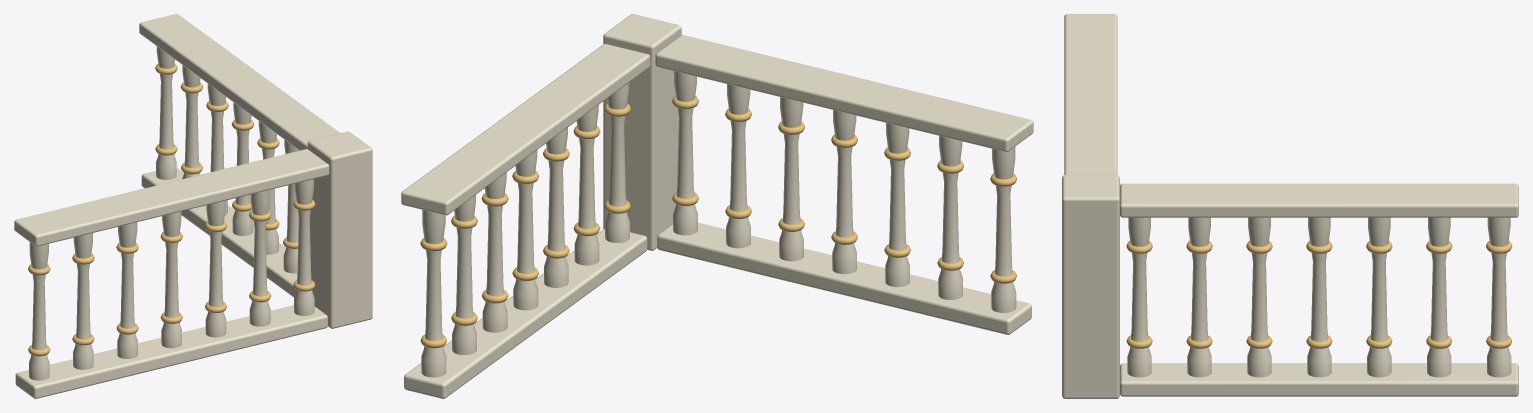
Rendered from royal-court-and-throne-palace-balustrade-corner-355292d1__29424.glb.
3 views of the same model, side by side, from view 1: azimuth 30°, elevation 25°; view 2: azimuth 150°, elevation 25°; view 3: azimuth 270°, elevation 25° (orthographic). The views are drawn at different scales.
Visible parts, largest first — view 1: balustrade-corner; view 2: balustrade-corner; view 3: balustrade-corner.
Boxes of the visible parts, x1,y1,x2,y2 form: balustrade-corner: [14, 14, 372, 398]; balustrade-corner: [401, 14, 1033, 398]; balustrade-corner: [1062, 14, 1518, 398].
Size of the model in its own units: 2.14 by 1.04 by 2.14.
